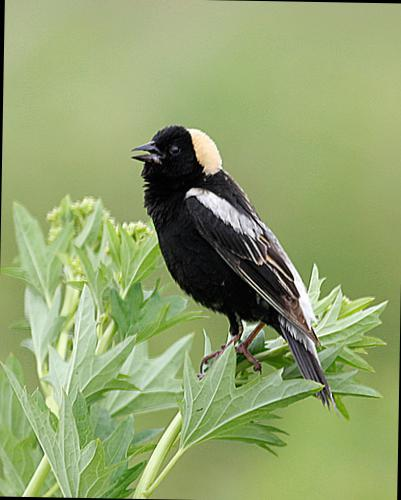bird: (116, 109, 370, 424)
